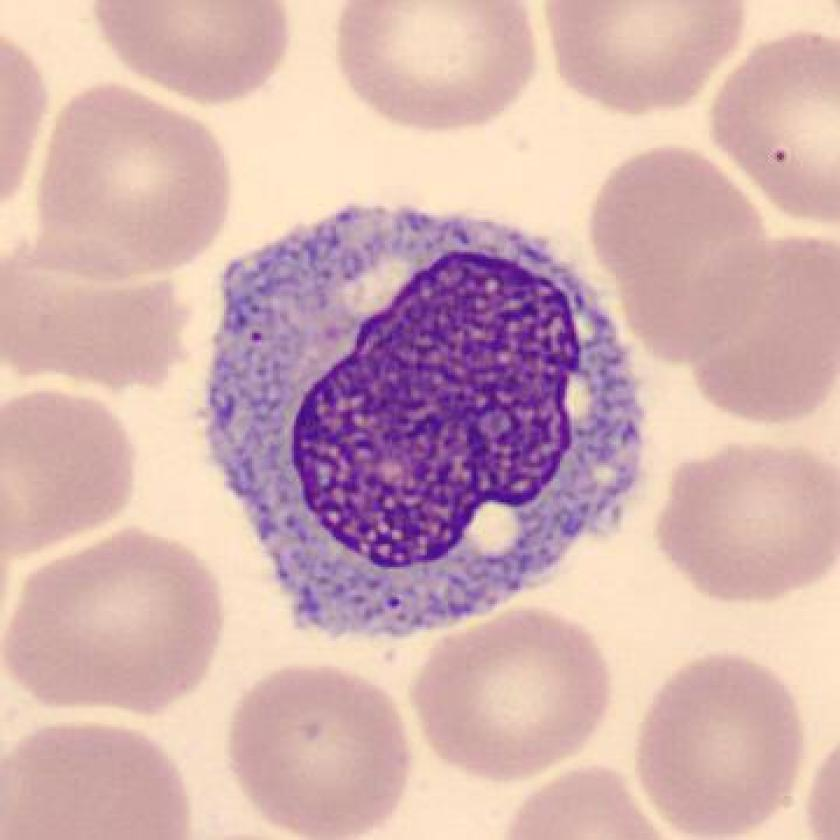monocyte: (181, 193, 664, 651)
